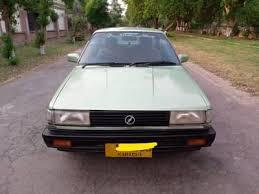windshield: (77, 31, 182, 66)
